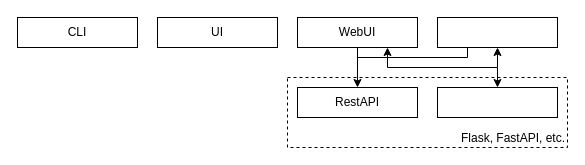
This 585x165 diagram has some shape labels left out. Each missing label, with the centre of its shape:
"SocketIO" belongs at pixel 497 102.
"Web" belongs at pixel 497 32.
